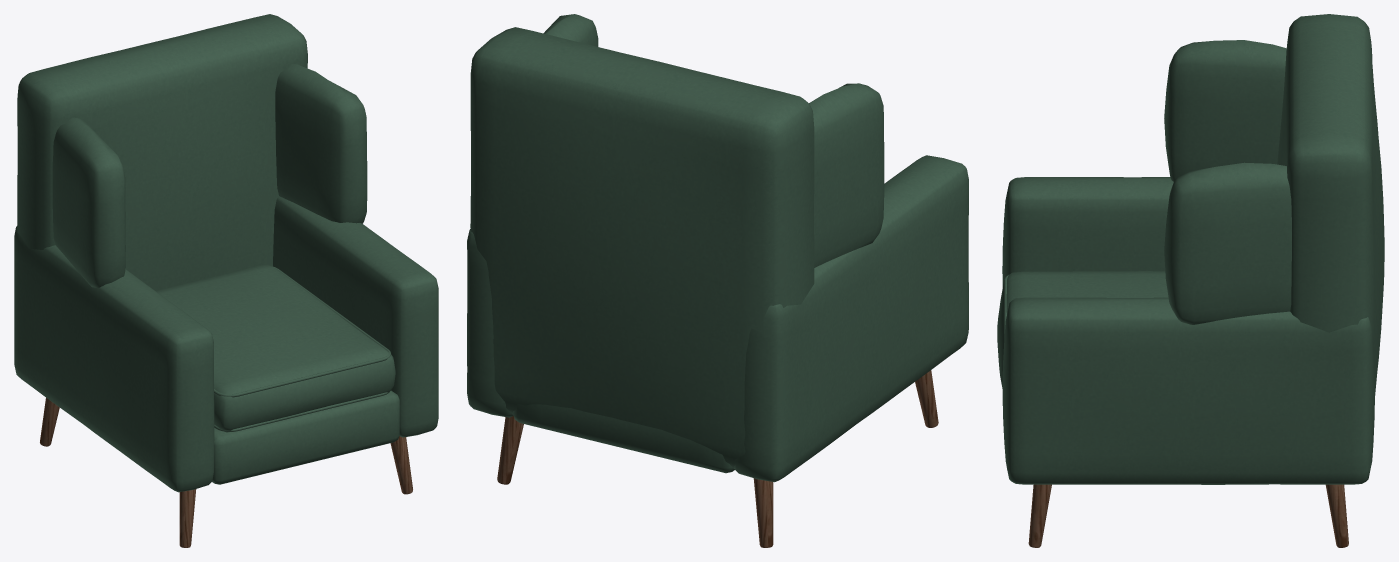
File: butaca_orejero_verde.glb
The picture shows the model from 3 angles, left to right: view 1: azimuth 30°, elevation 25°; view 2: azimuth 150°, elevation 25°; view 3: azimuth 270°, elevation 25°; orthographic projection. The views are drawn at different scales.
Visible parts, largest first — view 1: butaca_orejero_verde; view 2: butaca_orejero_verde; view 3: butaca_orejero_verde.
Part boxes in pixels (<box>): butaca_orejero_verde: <box>14,14,438,547</box>; butaca_orejero_verde: <box>467,14,968,547</box>; butaca_orejero_verde: <box>997,14,1384,547</box>.
Bounding box in the file's own units: 0.8217 × 1.07 × 0.9111.
Materials: 2 (2 with a texture image).
